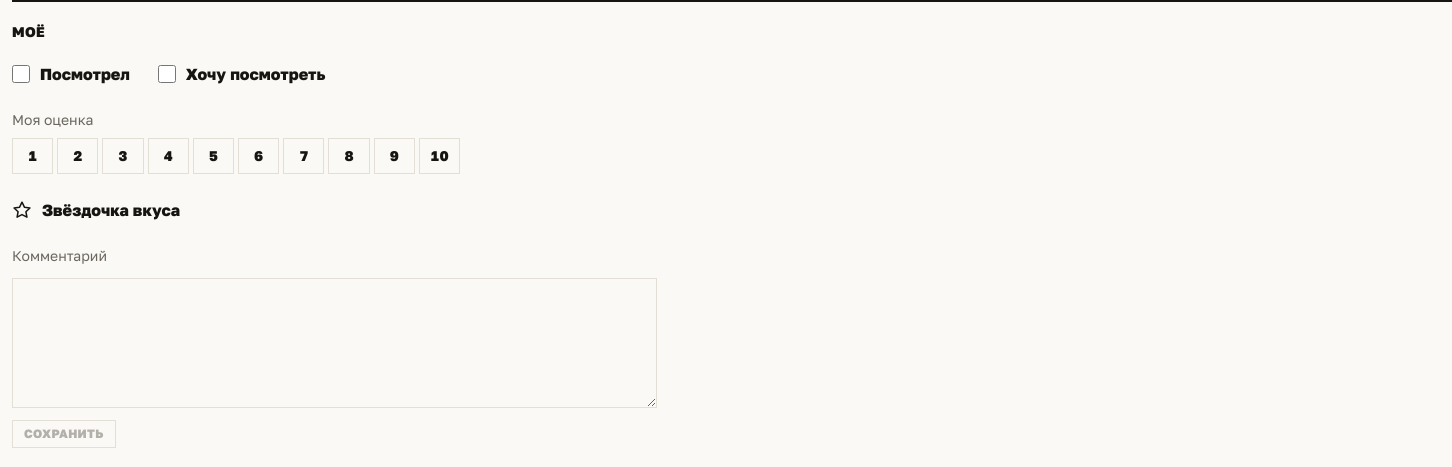
Scenario: галочка «хочу посмотреть» › после сохранения появляется тот же штамп «Сохранено»
The image size is (1452, 467).
Click the checkbox labelled "Хочу посмотреть" at (167, 74), box [158, 65, 176, 83]
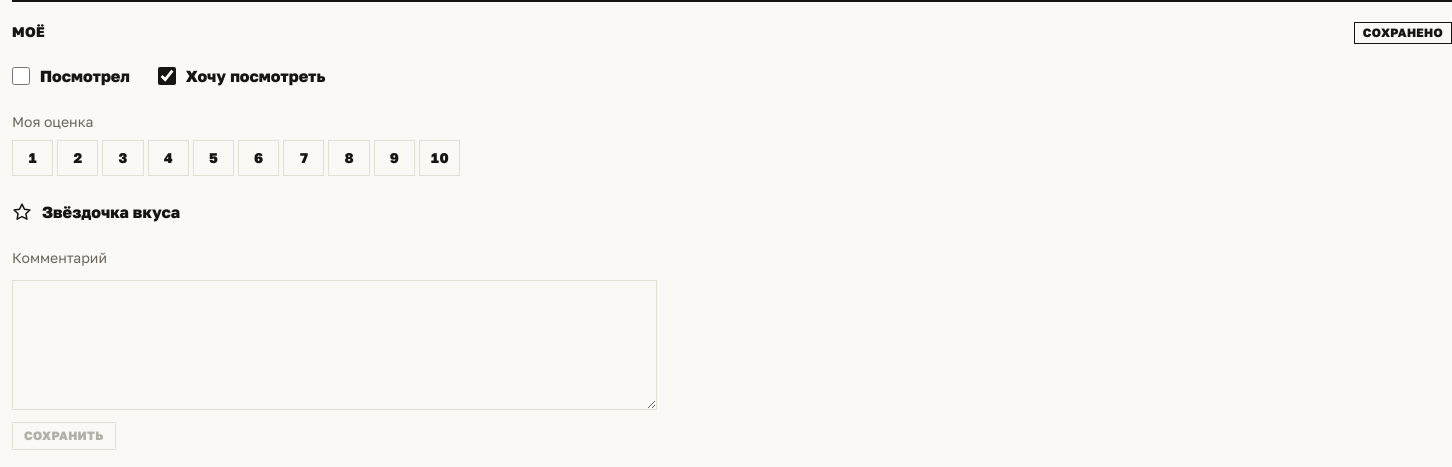
Now the text "Сохранено" is shown, box [1354, 22, 1451, 44]
